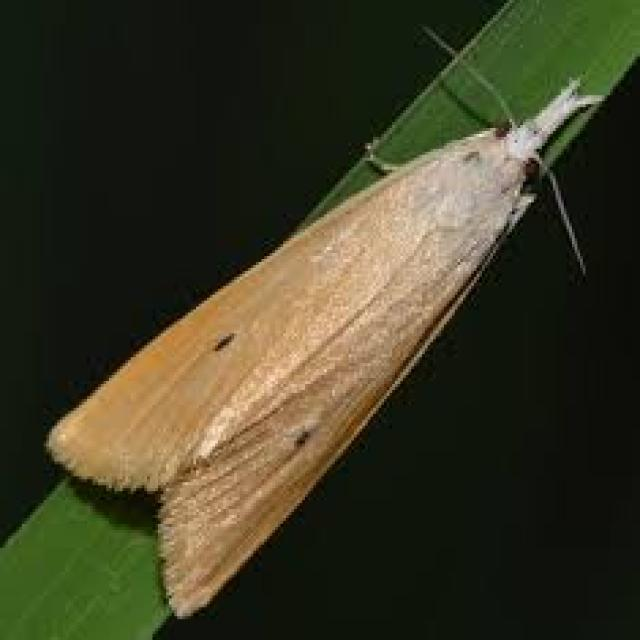yellow-stem-borer: (15, 70, 633, 622)
